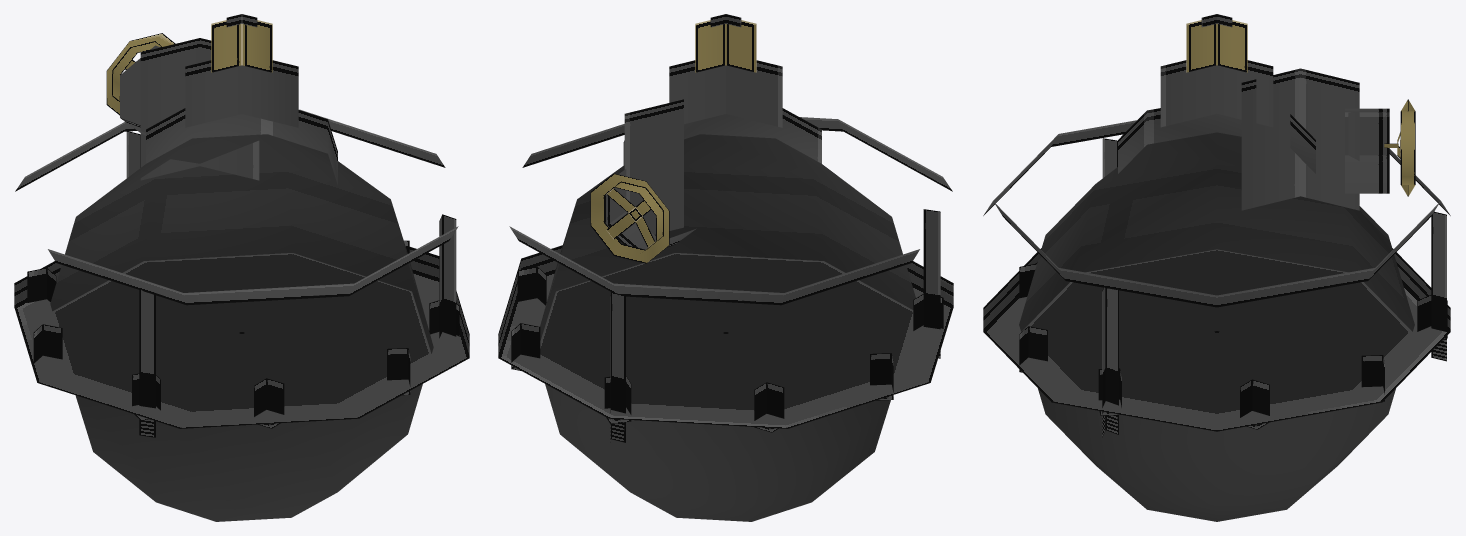
File: ps2_save-icons_steamboy.glb
3 renders of one model, left to right at view 1: azimuth 30°, elevation 25°; view 2: azimuth 150°, elevation 25°; view 3: azimuth 270°, elevation 25°, orthographic.
Visible parts, largest first — view 1: icon.ico; view 2: icon.ico; view 3: icon.ico.
Boxes of the visible parts, x1,y1,x2,y2 form: icon.ico: (14, 14, 469, 521); icon.ico: (498, 14, 953, 521); icon.ico: (983, 14, 1450, 521).
Size of the model in its own units: 3.93 by 4.44 by 3.91.
Materials: 1 (1 with a texture image).
